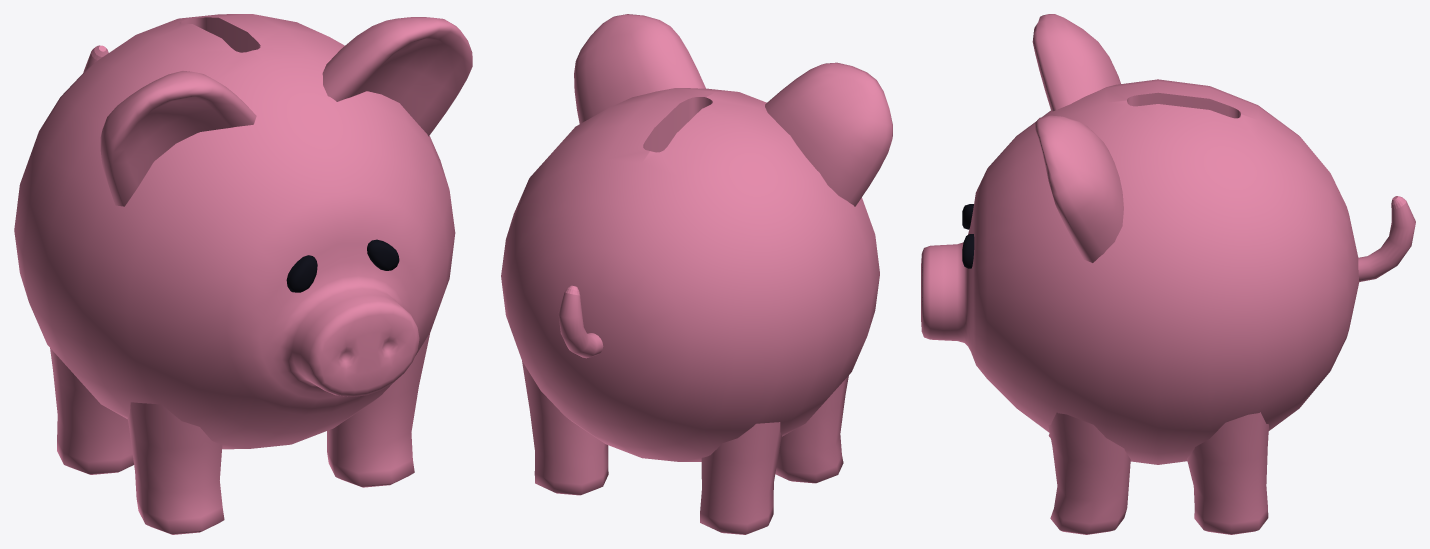
Rendered from F_Piggy.fbx.
3 views of the same model, side by side, from view 1: azimuth 30°, elevation 25°; view 2: azimuth 150°, elevation 25°; view 3: azimuth 270°, elevation 25° (orthographic). The views are drawn at different scales.
Parts seen in each view (by area): view 1: F_Piggy_01; view 2: F_Piggy_01; view 3: F_Piggy_01.
Boxes of the visible parts, x1,y1,x2,y2 form: F_Piggy_01: (14,14,472,534); F_Piggy_01: (501,14,892,534); F_Piggy_01: (921,14,1415,534).
Size of the model in its own units: 94.49 by 110 by 121.
